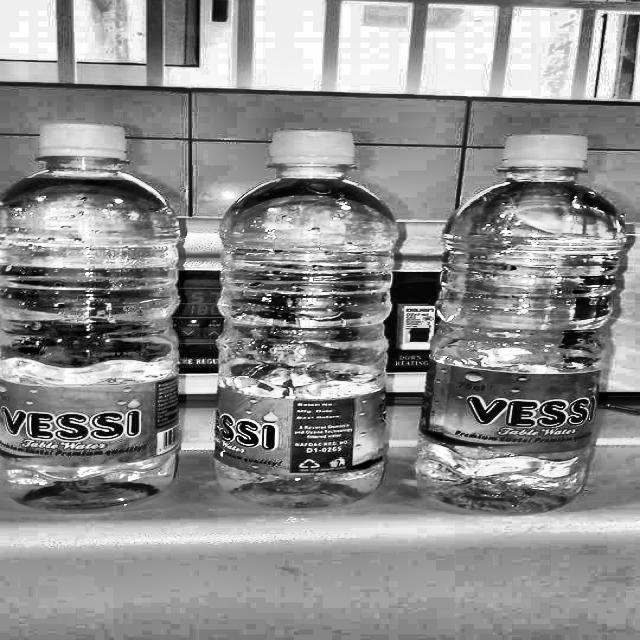waterbottle: (416, 135, 626, 514), (213, 130, 398, 508), (0, 123, 178, 510)
